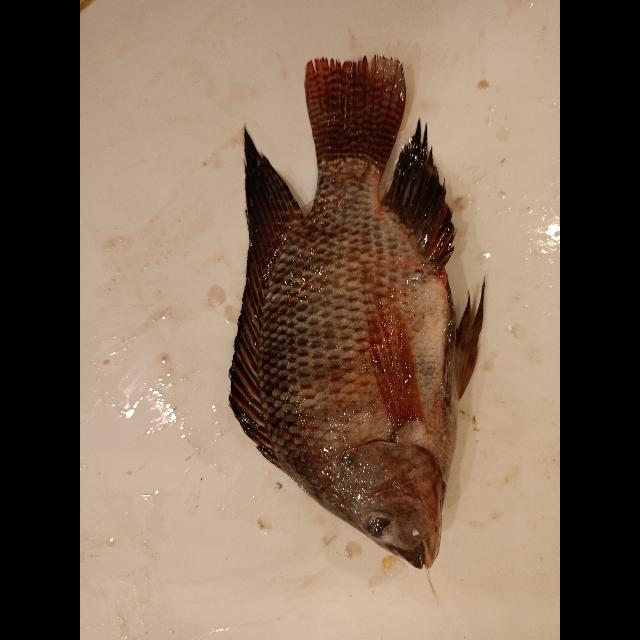Tilapia: (229, 55, 487, 573)
